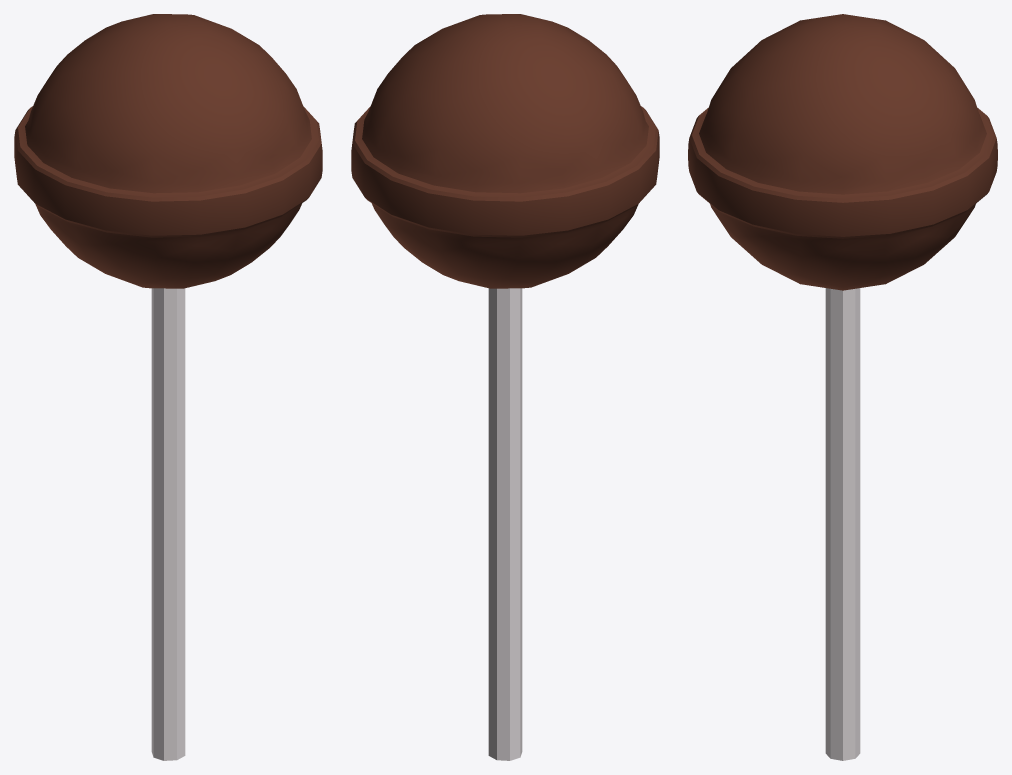
File: mandoble chupachus.fbx
3 views of the same model, side by side, from view 1: azimuth 30°, elevation 25°; view 2: azimuth 150°, elevation 25°; view 3: azimuth 270°, elevation 25° (orthographic).
Parts seen in each view (by area): view 1: cola & death; view 2: cola & death; view 3: cola & death.
Part boxes in pixels (x1,y1,x2,y2): cola & death: [14, 14, 322, 760]; cola & death: [351, 14, 659, 760]; cola & death: [688, 14, 997, 760].
Size of the model in its own units: 323 by 837 by 323.
